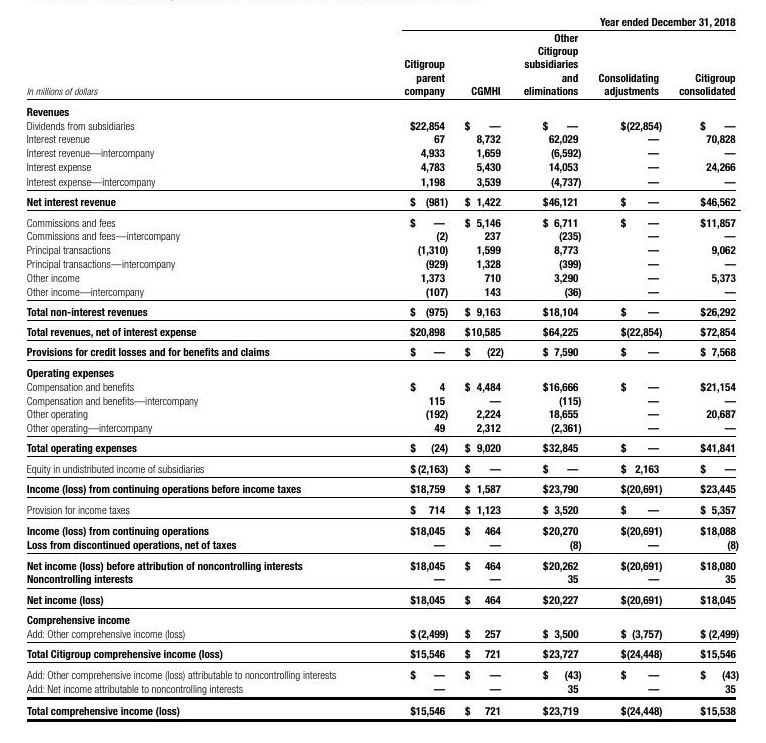table: (0, 0, 766, 743)
